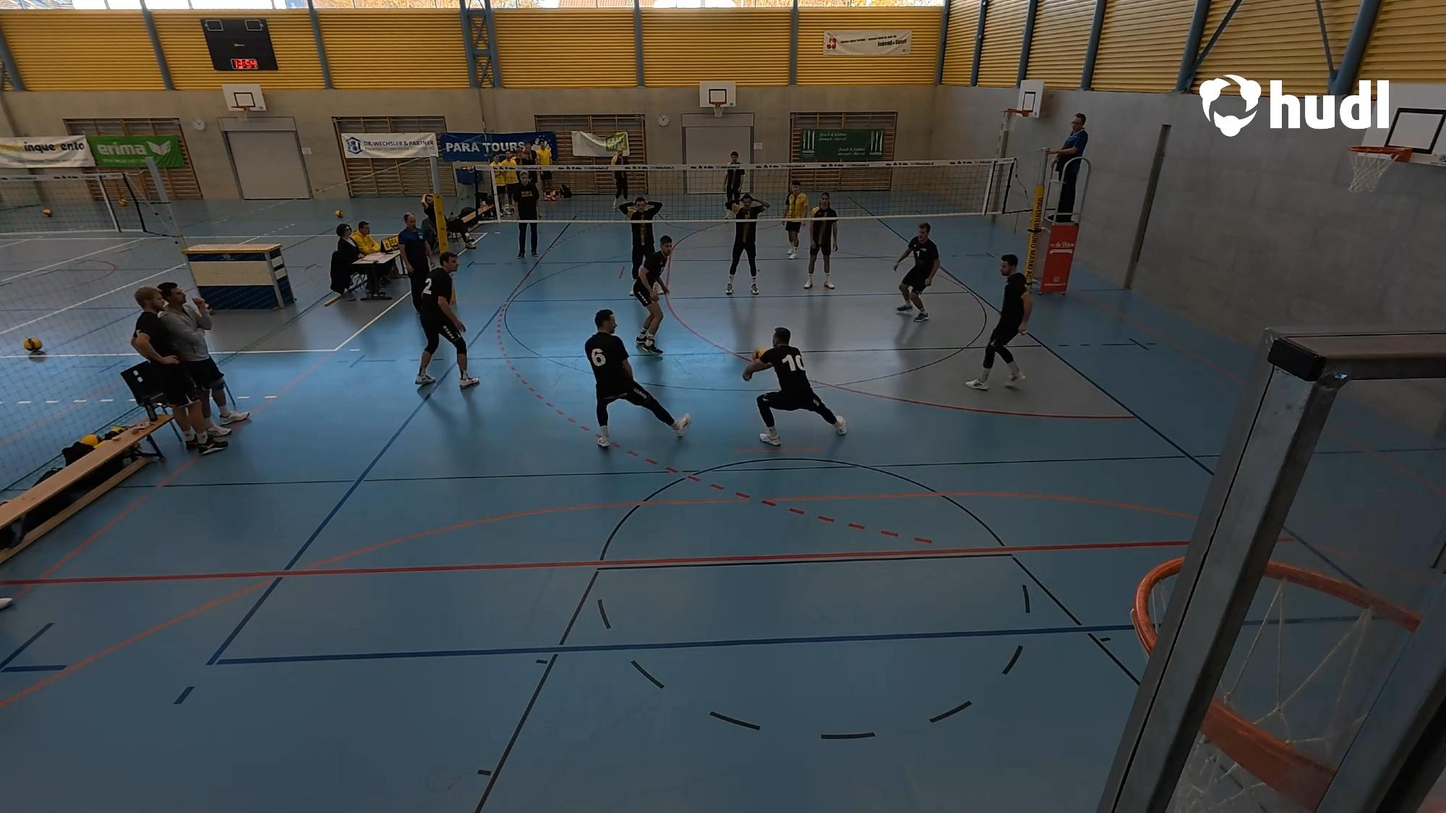ricezione: (737, 328, 850, 454)
